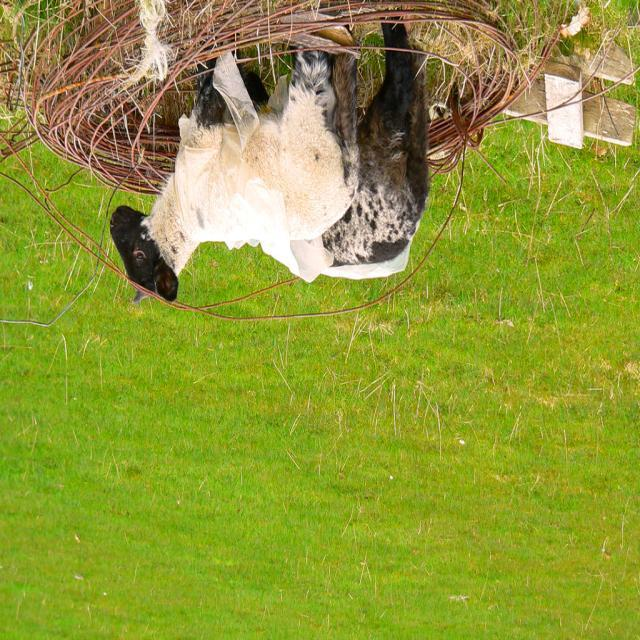Goat: (110, 43, 362, 307)
